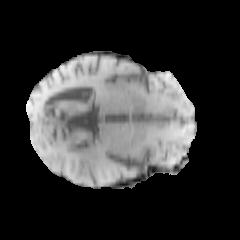glioma: (66, 147, 121, 175)
